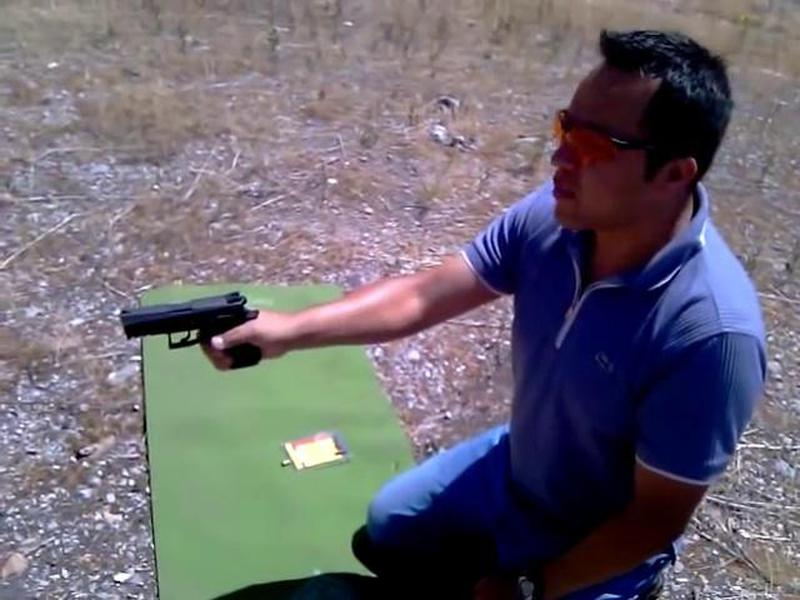Pistola: (112, 274, 272, 388)
